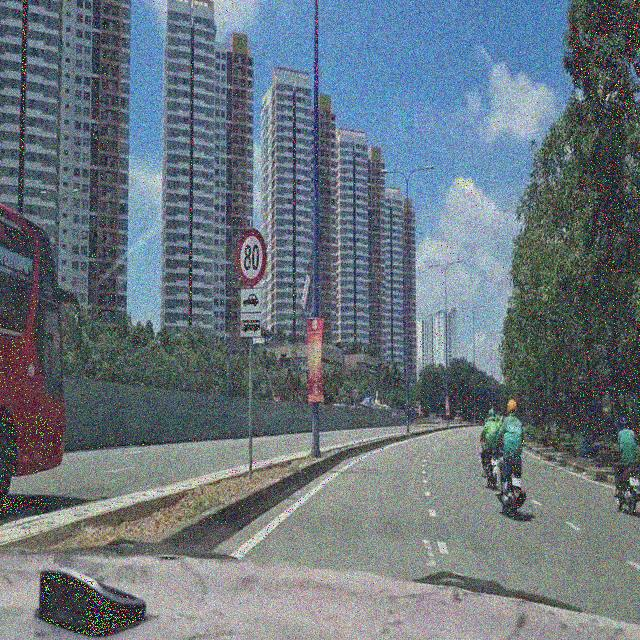Biển phụ: (237, 290, 264, 341)
Giới hạn tốc độ: 80Km/h: (235, 222, 269, 290)
